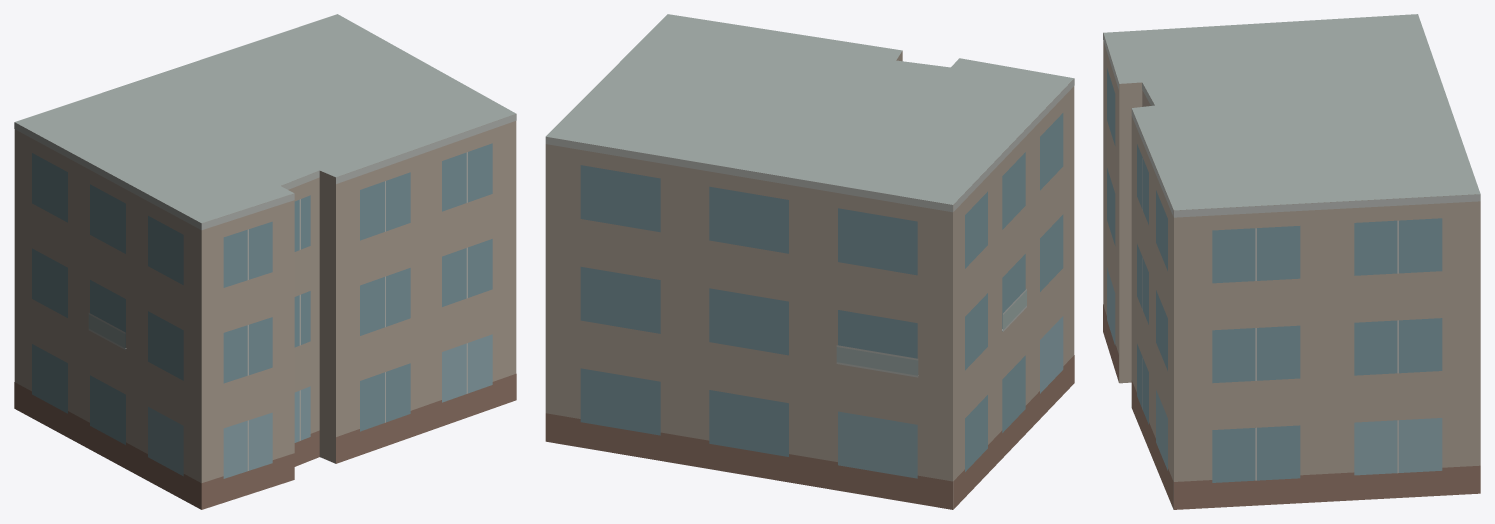
Rendered from survey-upis-32538603.glb.
3 views of the same model, side by side, from view 1: azimuth 30°, elevation 25°; view 2: azimuth 150°, elevation 25°; view 3: azimuth 270°, elevation 25° (orthographic). The views are drawn at different scales.
Visible parts, largest first — view 1: survey-upis-32538603.tmp; view 2: survey-upis-32538603.tmp; view 3: survey-upis-32538603.tmp.
Part boxes in pixels (bbox=[...]): survey-upis-32538603.tmp: bbox=[14, 14, 516, 509]; survey-upis-32538603.tmp: bbox=[545, 14, 1074, 509]; survey-upis-32538603.tmp: bbox=[1103, 14, 1480, 509].
Bounding box in the file's own units: 14.22 × 10.1 × 11.55.
